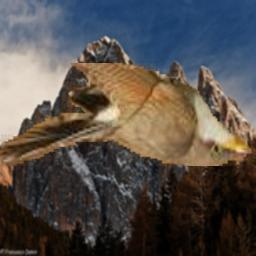Cuckoo: (0, 63, 256, 166)
